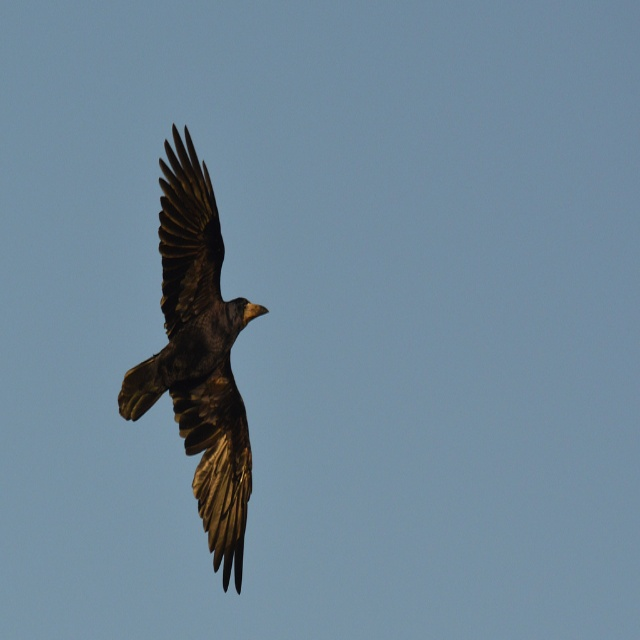Eagle: (112, 117, 270, 593)
